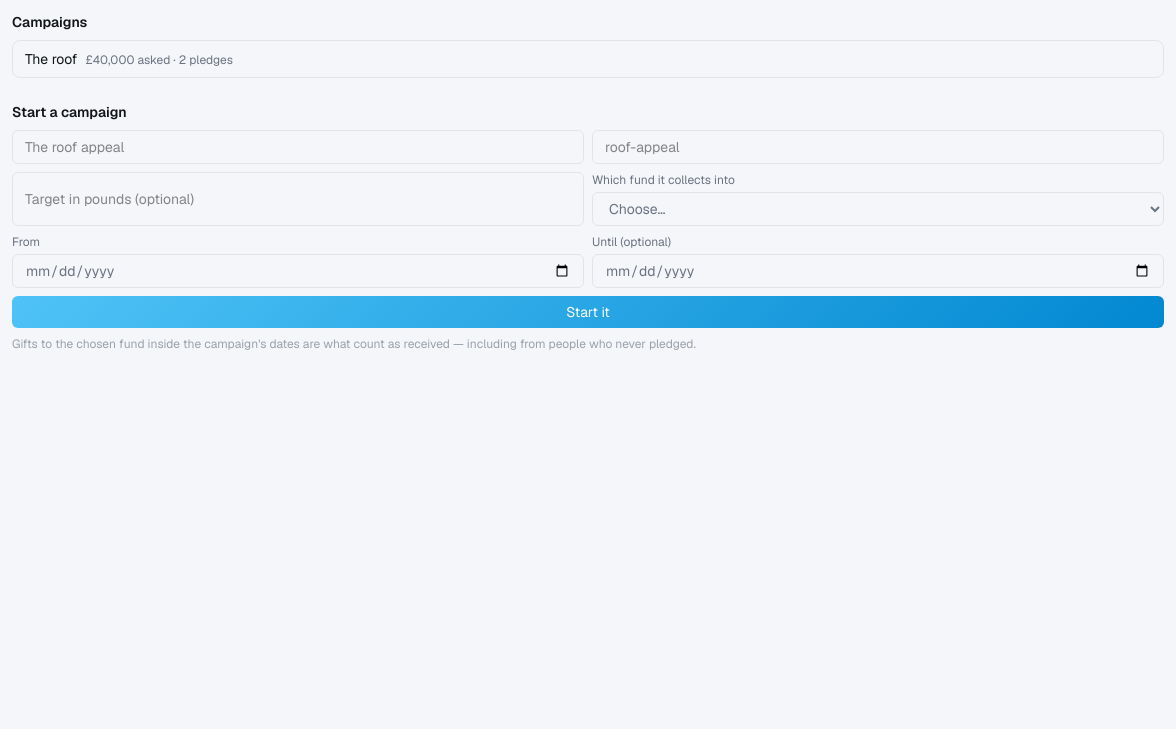
recording a pledge › hides the end date for a one-off, which has a date rather than a span
Click the button "The roof£40,000 asked · 2 pledges" at [51, 59], box [12,40,1164,78]
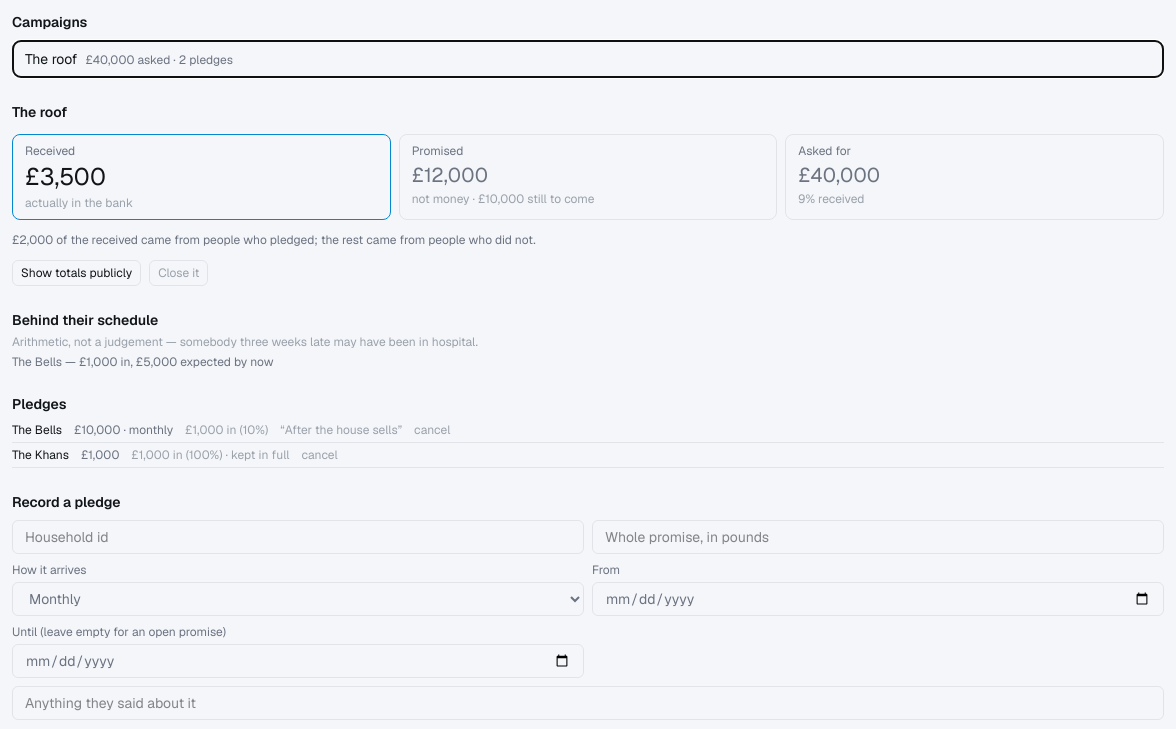
Result: the text "Received" is shown at [25,143,75,159]
Result: the date field labelled "Until (leave empty for an open promise)" is shown at [12,644,584,678]
Select "One gift" in the dropdown labelled "How it arrives" at [298, 599], box [12,582,584,616]
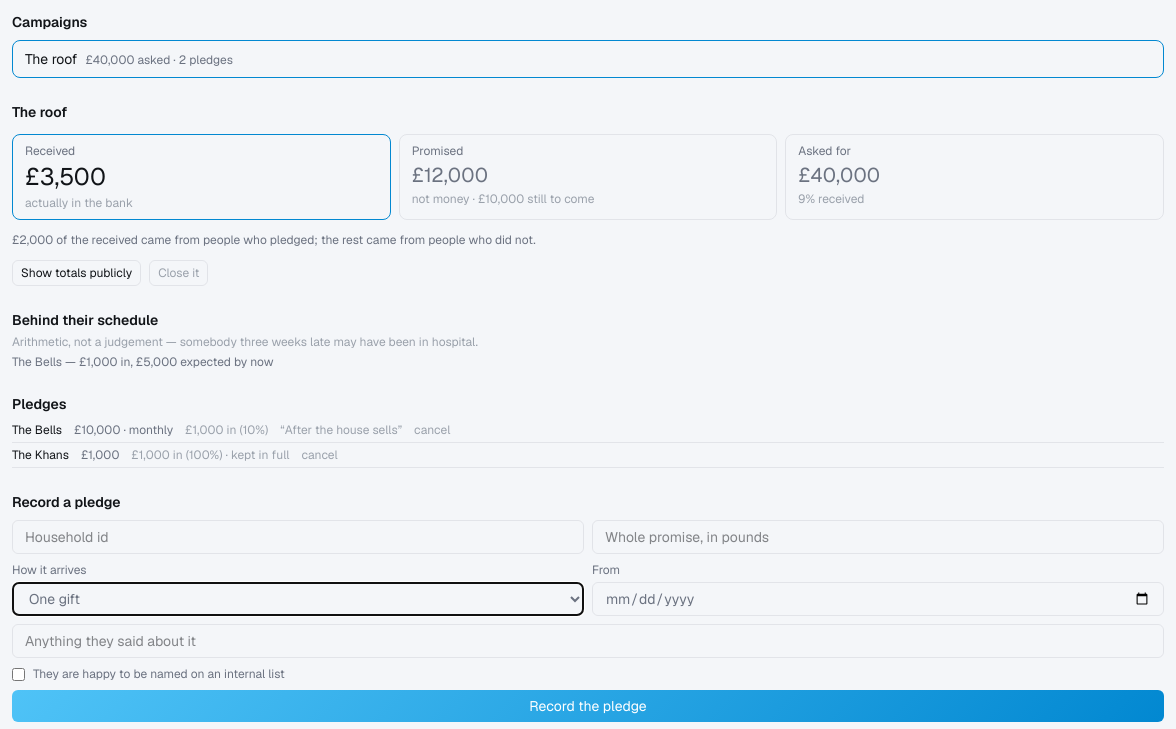
Result: the label labelled "Until" is gone
